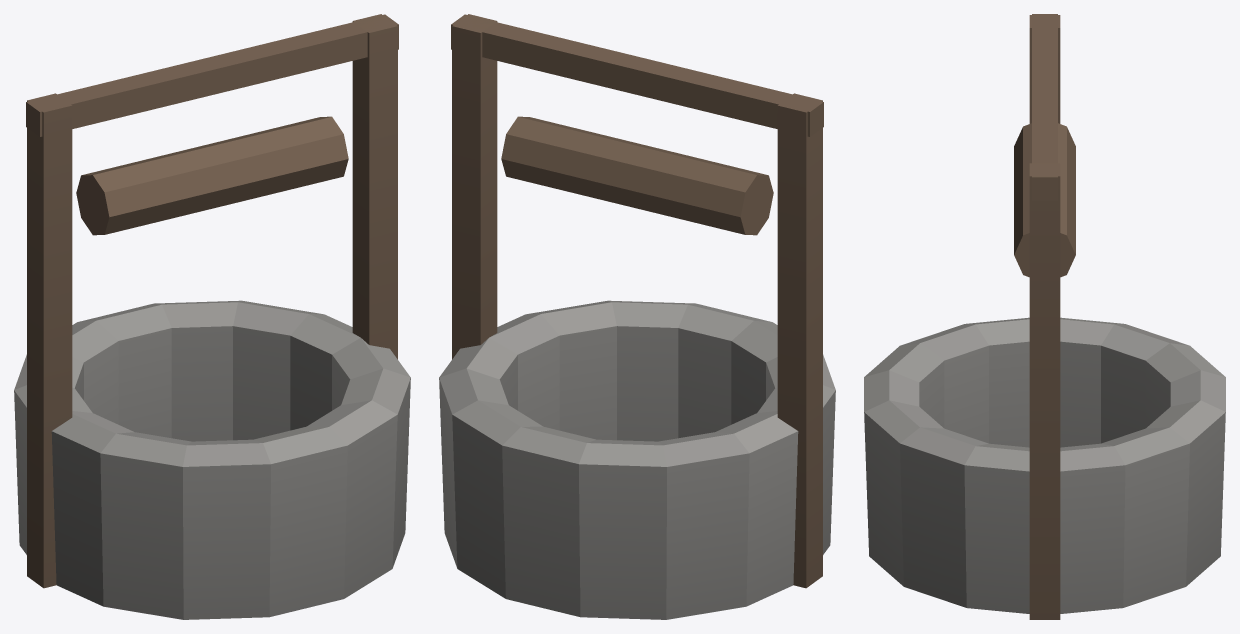
File: cn_well.glb
The picture shows the model from 3 angles, left to right: view 1: azimuth 30°, elevation 25°; view 2: azimuth 150°, elevation 25°; view 3: azimuth 270°, elevation 25°; orthographic projection. The views are drawn at different scales.
Parts seen in each view (by area): view 1: cn_well; view 2: cn_well; view 3: cn_well.
Boxes of the visible parts, x1=… form: cn_well: x1=14, y1=14, x2=410, y2=619; cn_well: x1=439, y1=14, x2=835, y2=619; cn_well: x1=864, y1=14, x2=1225, y2=619.
Bounding box in the file's own units: 1.5 × 1.9 × 1.4.
